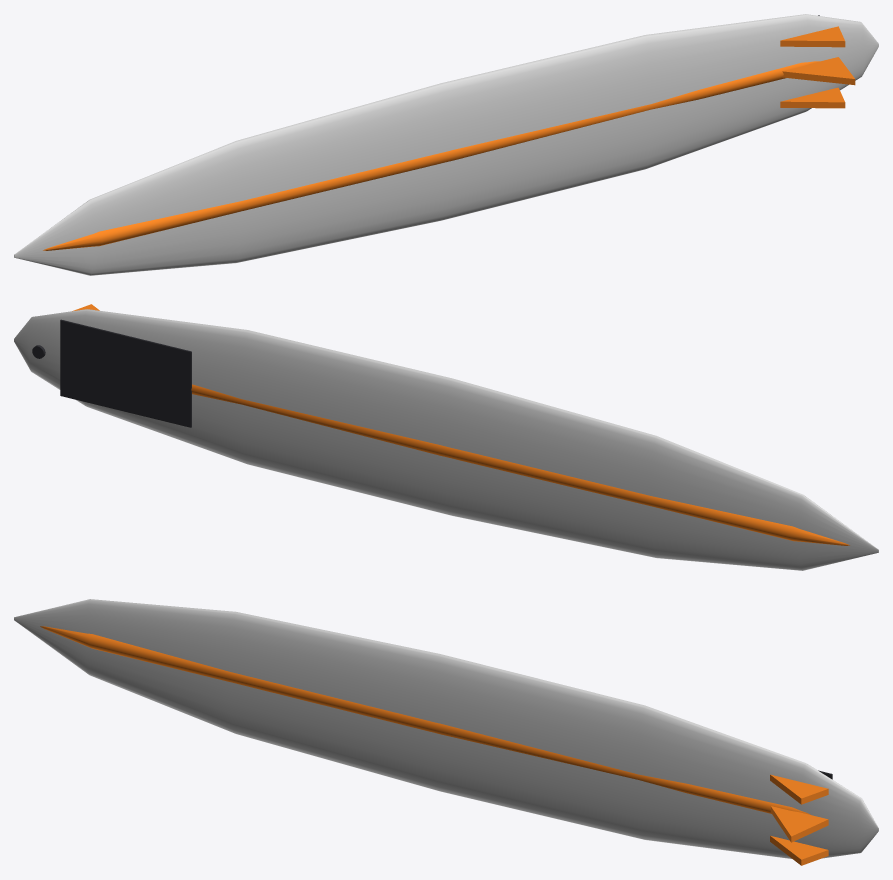
File: surfboard.fbx
The picture shows the model from 3 angles, top to bottom: view 1: azimuth 30°, elevation 25°; view 2: azimuth 150°, elevation 25°; view 3: azimuth 330°, elevation 25°; orthographic projection.
Parts seen in each view (by area): view 1: Surfboard; view 2: Surfboard; view 3: Surfboard.
Part boxes in pixels (<box>): Surfboard: <box>14,14,878,275</box>; Surfboard: <box>14,304,878,570</box>; Surfboard: <box>14,599,878,865</box>.
Size of the model in its own units: 5.92 by 0.9 by 0.4675.
